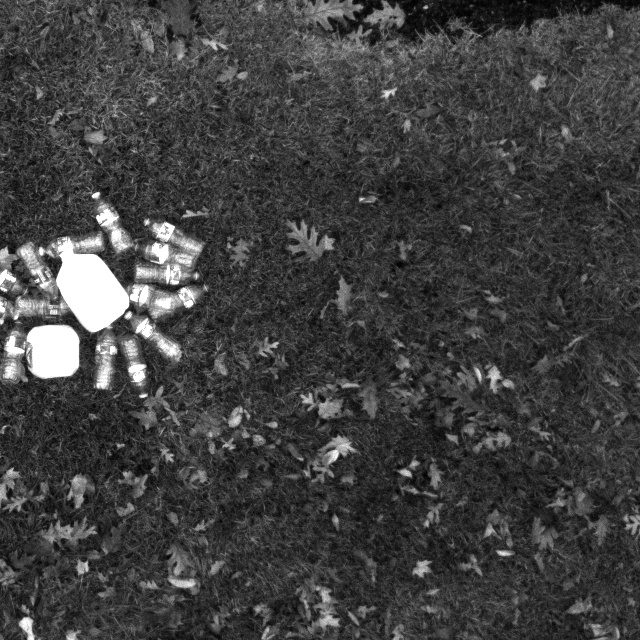bottle: (84, 189, 137, 261), (142, 277, 209, 324), (33, 230, 113, 268), (116, 330, 154, 407), (23, 238, 66, 304), (130, 315, 185, 366), (83, 331, 125, 397), (130, 261, 219, 288), (13, 292, 76, 328), (146, 214, 207, 250), (128, 277, 188, 309), (146, 240, 206, 266)
can: (54, 229, 135, 342)
